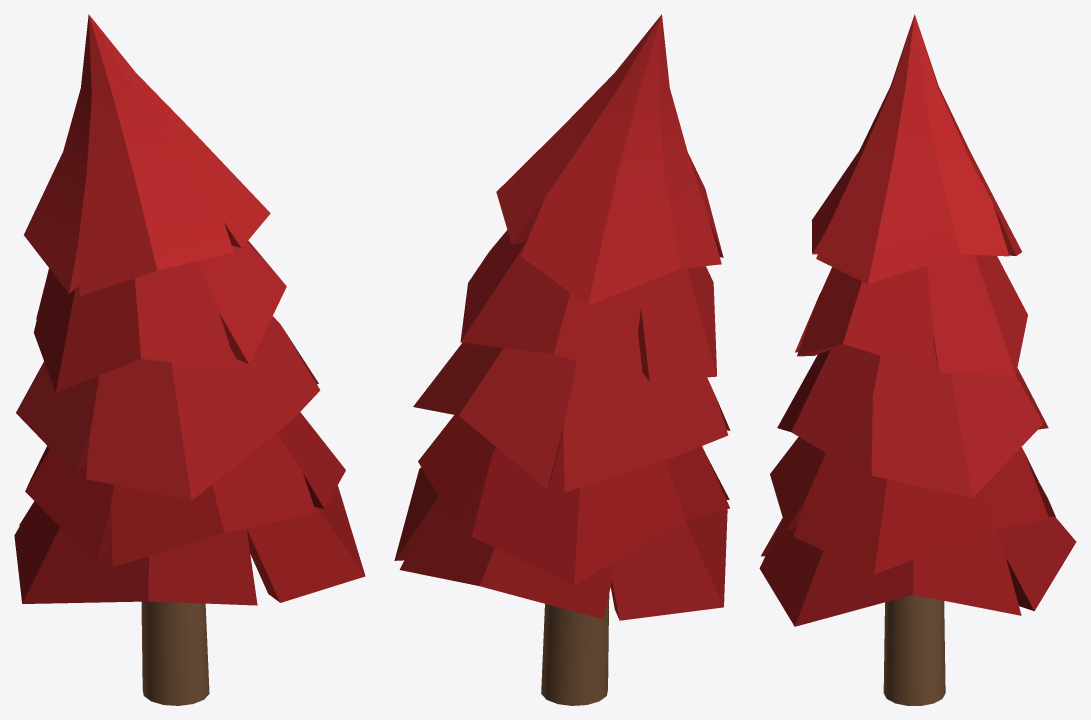
Rendered from Spruce_Red_2.fbx.
3 views of the same model, side by side, from view 1: azimuth 30°, elevation 25°; view 2: azimuth 150°, elevation 25°; view 3: azimuth 270°, elevation 25° (orthographic). The views are drawn at different scales.
Parts seen in each view (by area): view 1: Cylinder.466, Cylinder.467, Cylinder.468, Cylinder.470, Cylinder.469, Cylinder.471; view 2: Cylinder.466, Cylinder.467, Cylinder.469, Cylinder.468, Cylinder.470, Cylinder.471; view 3: Cylinder.466, Cylinder.467, Cylinder.469, Cylinder.468, Cylinder.470, Cylinder.471.
Part boxes in pixels (x1,y1,x2,y2): Cylinder.466: (24,14,270,296); Cylinder.467: (16,316,320,500); Cylinder.468: (33,240,286,392); Cylinder.470: (14,485,365,605); Cylinder.469: (25,412,345,566); Cylinder.471: (141,601,209,705); Cylinder.466: (496,14,723,305); Cylinder.467: (413,334,730,492); Cylinder.469: (418,415,729,584); Cylinder.468: (460,230,716,381); Cylinder.470: (394,467,727,620); Cylinder.471: (541,594,609,705); Cylinder.466: (811,14,1021,284); Cylinder.467: (777,337,1048,497); Cylinder.469: (770,425,1055,574); Cylinder.468: (795,254,1027,375); Cylinder.470: (759,516,1076,626); Cylinder.471: (883,595,945,705).
Bounding box in the file's own units: 262 × 568 × 255.
